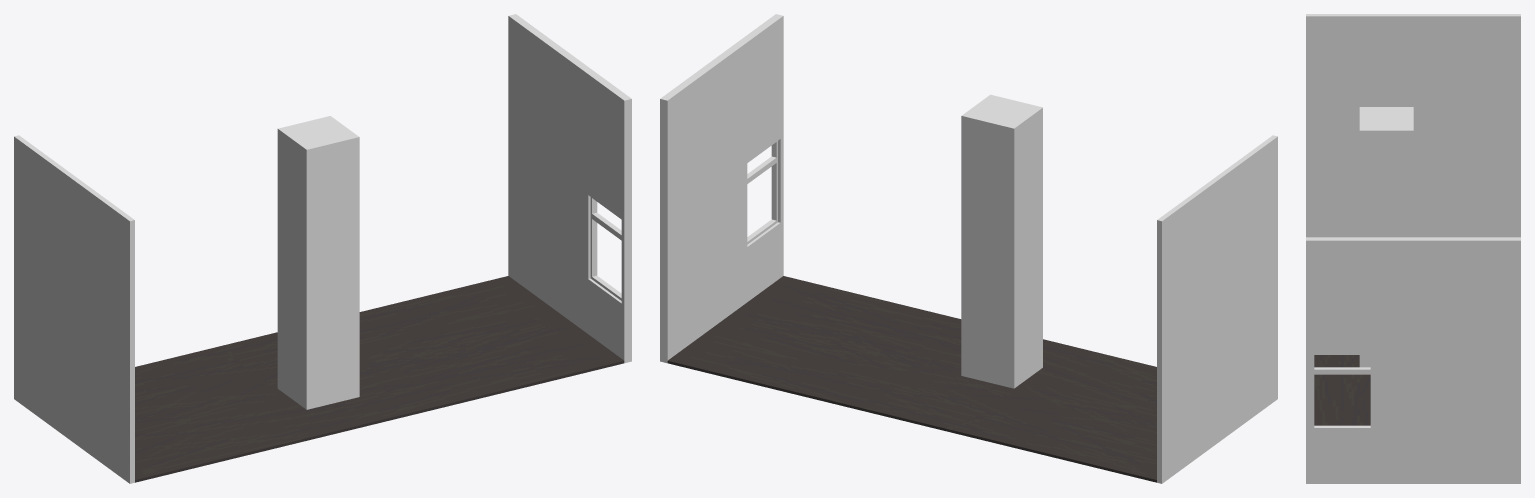
File: Column.obj
3 views of the same model, side by side, from view 1: azimuth 30°, elevation 25°; view 2: azimuth 150°, elevation 25°; view 3: azimuth 270°, elevation 25° (orthographic). The views are drawn at different scales.
Bounding box in the file's own units: 20 × 10 × 8.
Materials: 1 (1 with a texture image).
